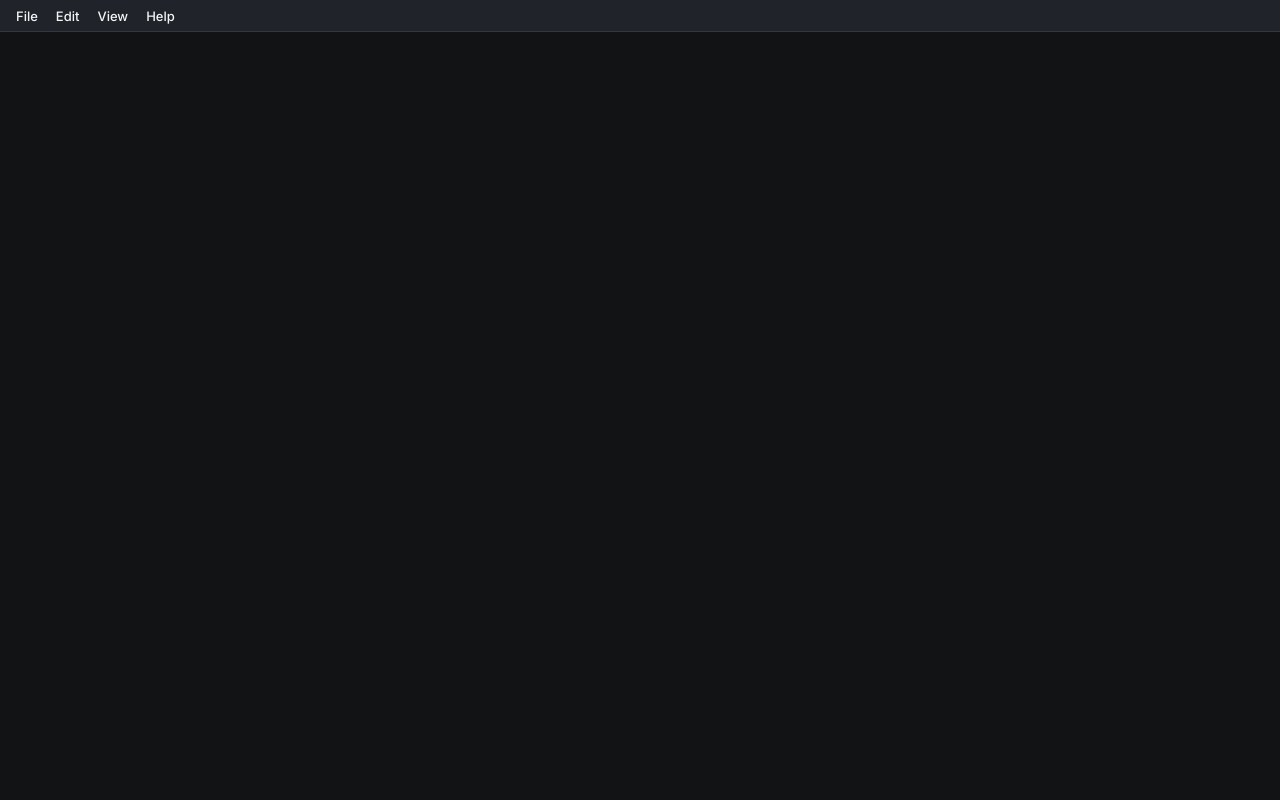
it: BrowserAppMenu › closes on Escape and outside click
Click the menu item "File" at (27, 16), box x1=8 y1=4 x2=46 y2=26
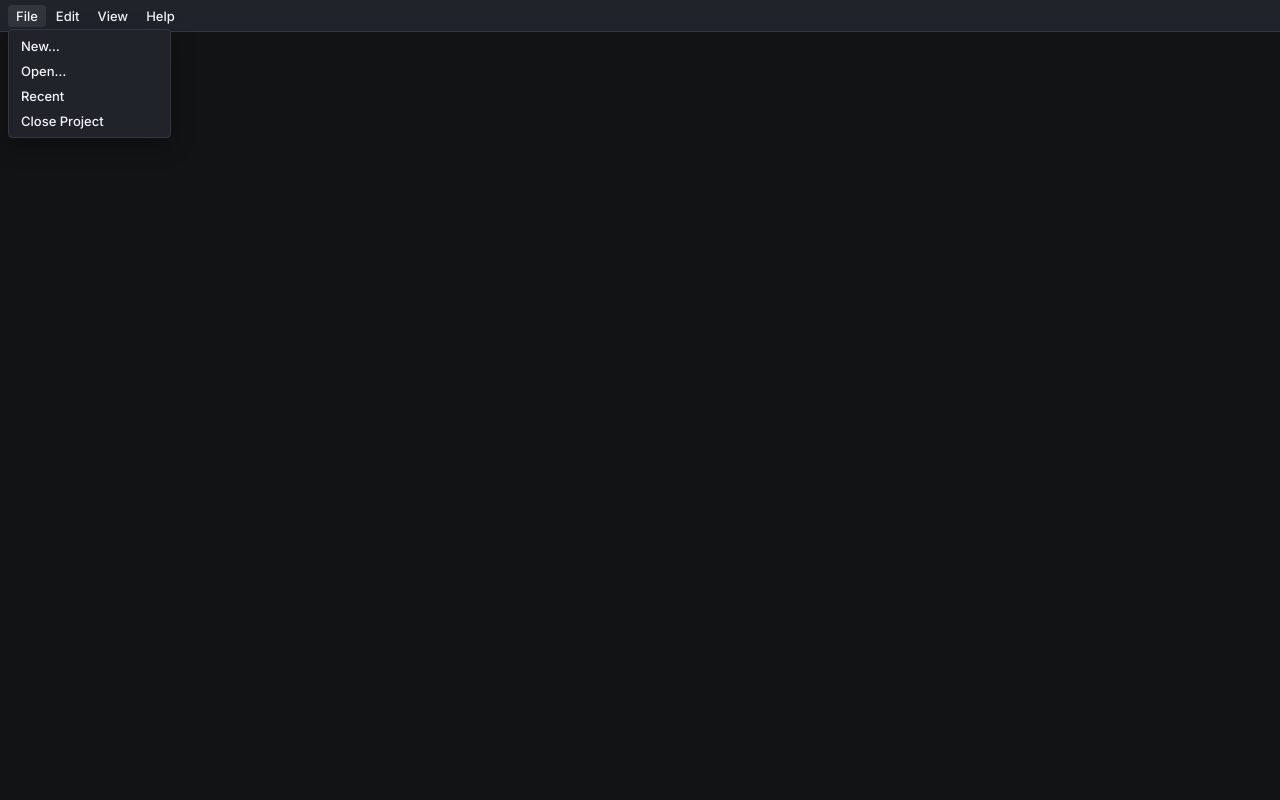
Expected: the menu named "File" is shown, x1=8 y1=28 x2=170 y2=138
Press Escape
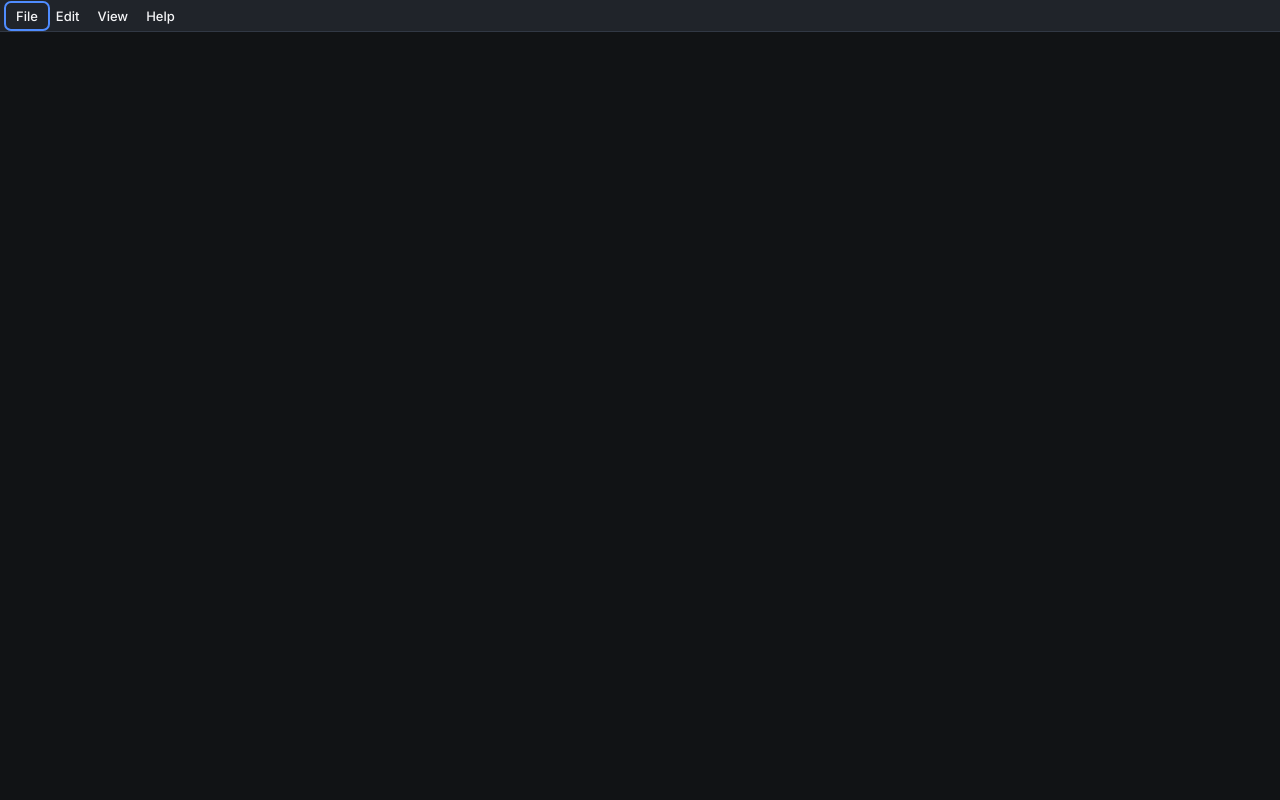
Expected: the menu is gone
Click the menu item "Edit" at (68, 16), box x1=48 y1=4 x2=88 y2=26
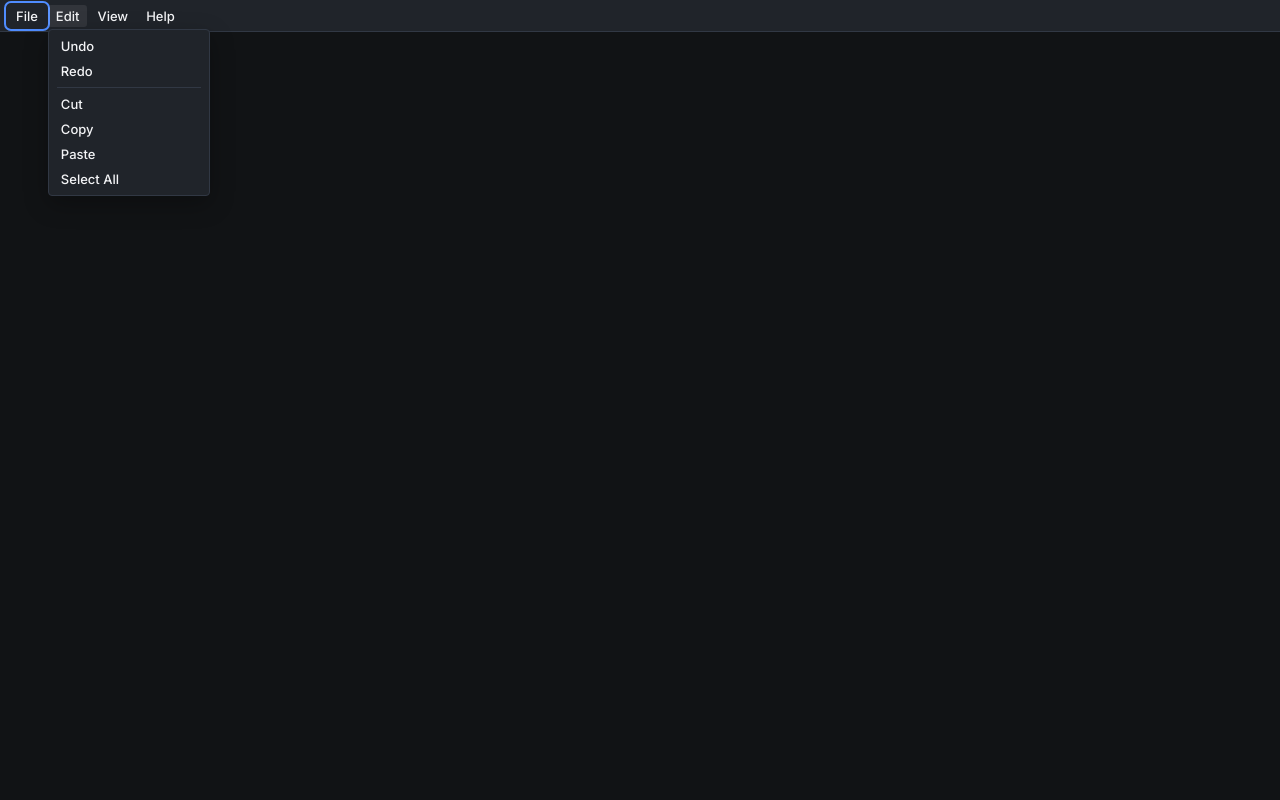
Expected: the menu named "Edit" is shown, x1=48 y1=28 x2=210 y2=196
Press the mouse on the element showing "File Edit Undo Redo Cut Copy Paste Select All View Help" at (640, 400), box x1=0 y1=0 x2=1279 y2=799
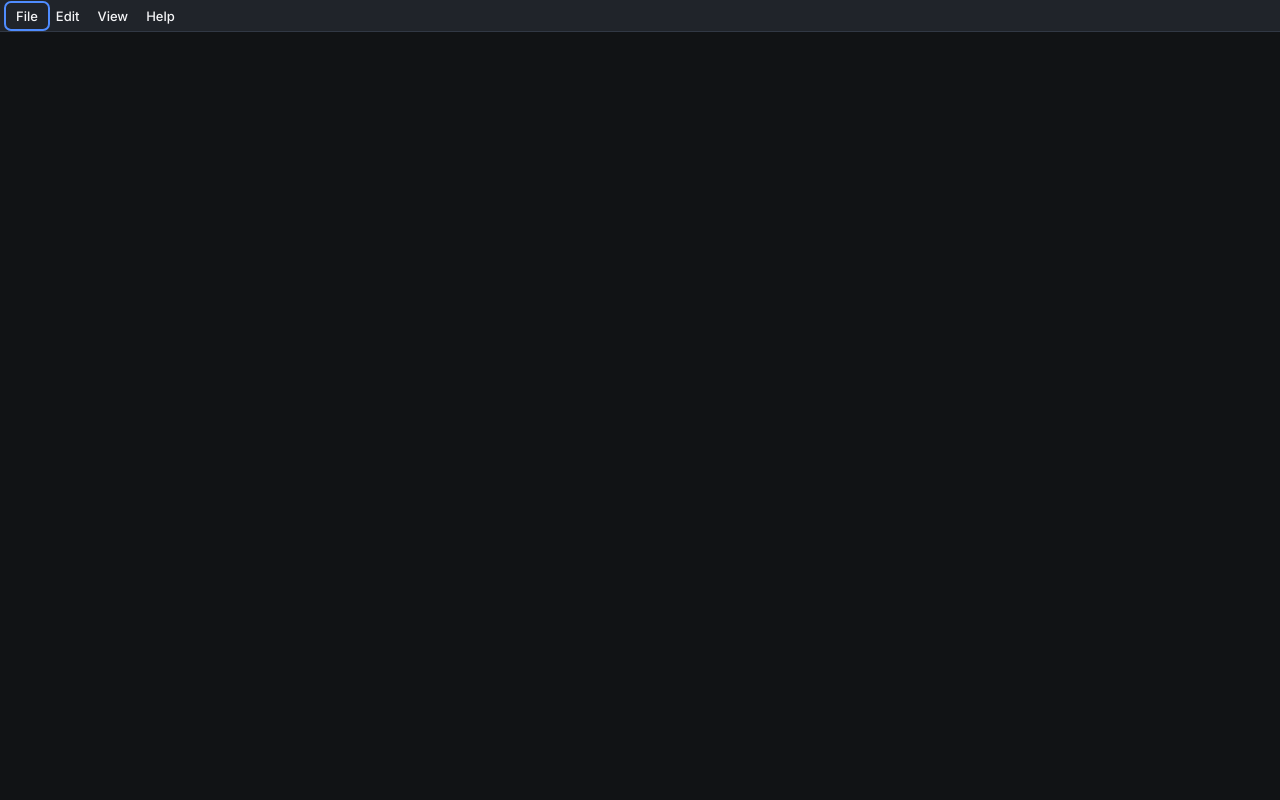
Expected: the menu is gone
